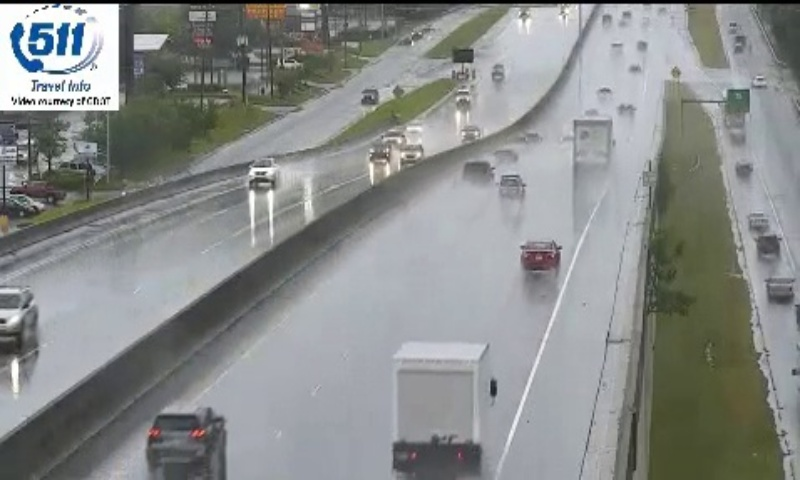car: (148, 407, 227, 466), (522, 240, 558, 270), (497, 175, 525, 200)
small-truck: (389, 340, 492, 472), (572, 116, 613, 170)
